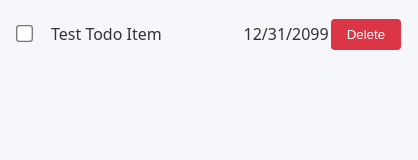
Test: TodoItem › shows error if title is too short
The width and height of the screenshot is (418, 160).
Double-click the text "Test Todo Item".
double_click(106, 34)  # box x1=51 y1=23 x2=162 y2=45
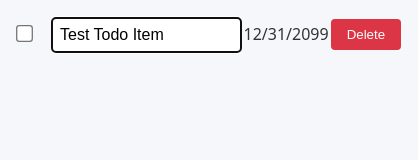
Replace the text in the field showing "Test Todo Item" with "short" at (146, 35), box x1=51 y1=17 x2=242 y2=53
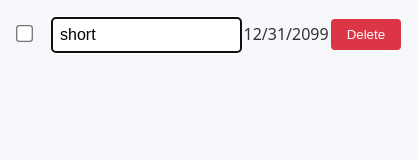
Leave the field showing "Test Todo Item", box x1=51 y1=17 x2=242 y2=53
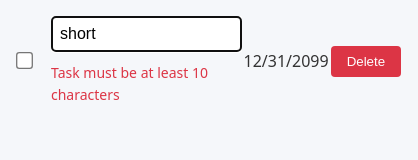
Expected: the text "Task must be at least 10 characters" is shown, x1=51 y1=63 x2=208 y2=104
